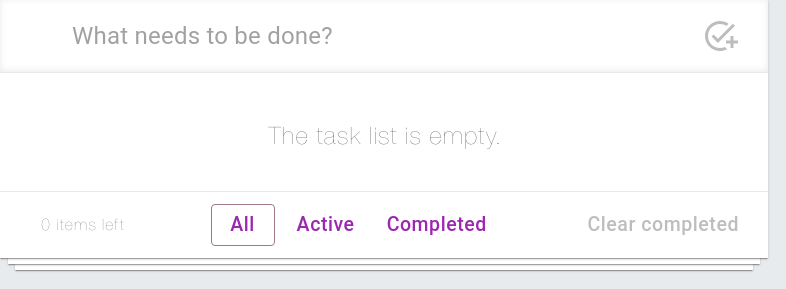
Test case: MainComponent › adds a new task to the list
Type "Test Task" into the field with test id "add task input" at coordinates (384, 36), box [72,14,696,58]
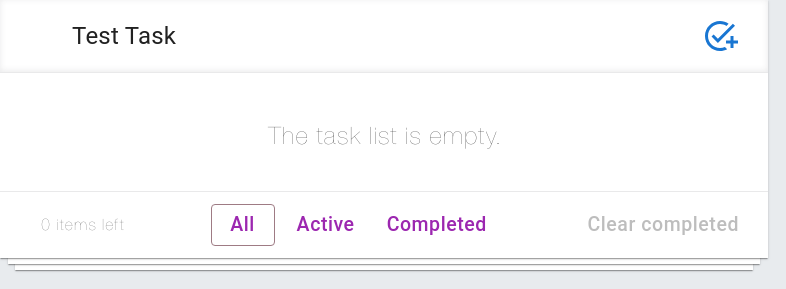
Click the button with test id "add task button" at coordinates (720, 36), box [696,12,744,60]
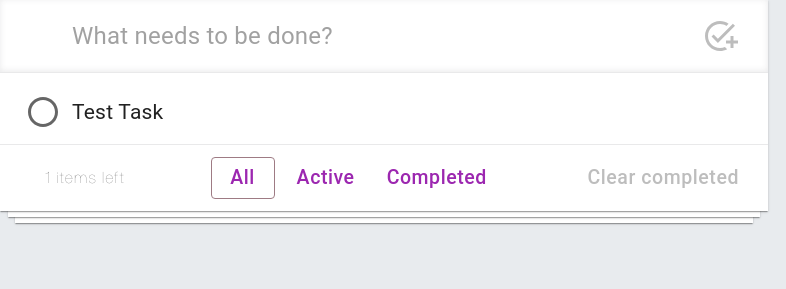
Check: the text "Test Task" is shown, box [72,100,164,124]
